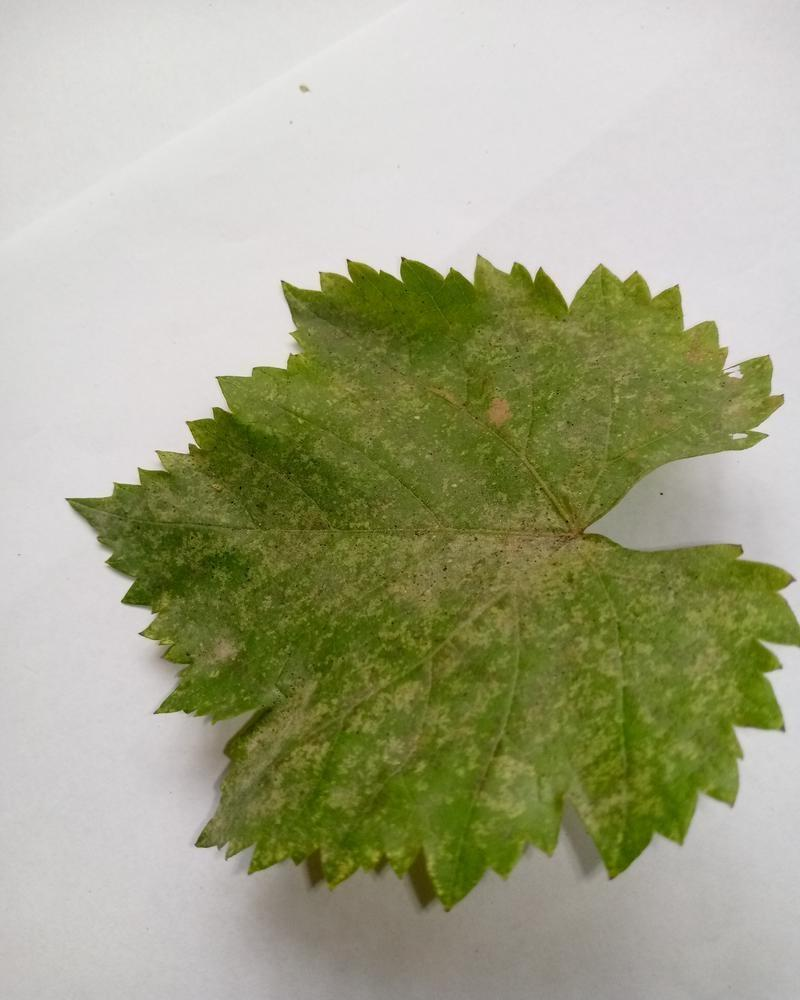Powdery-Mildew: (408, 504, 591, 649), (164, 478, 314, 604), (235, 675, 345, 817), (661, 592, 759, 726), (456, 735, 564, 817), (476, 370, 539, 433), (176, 619, 239, 682)
